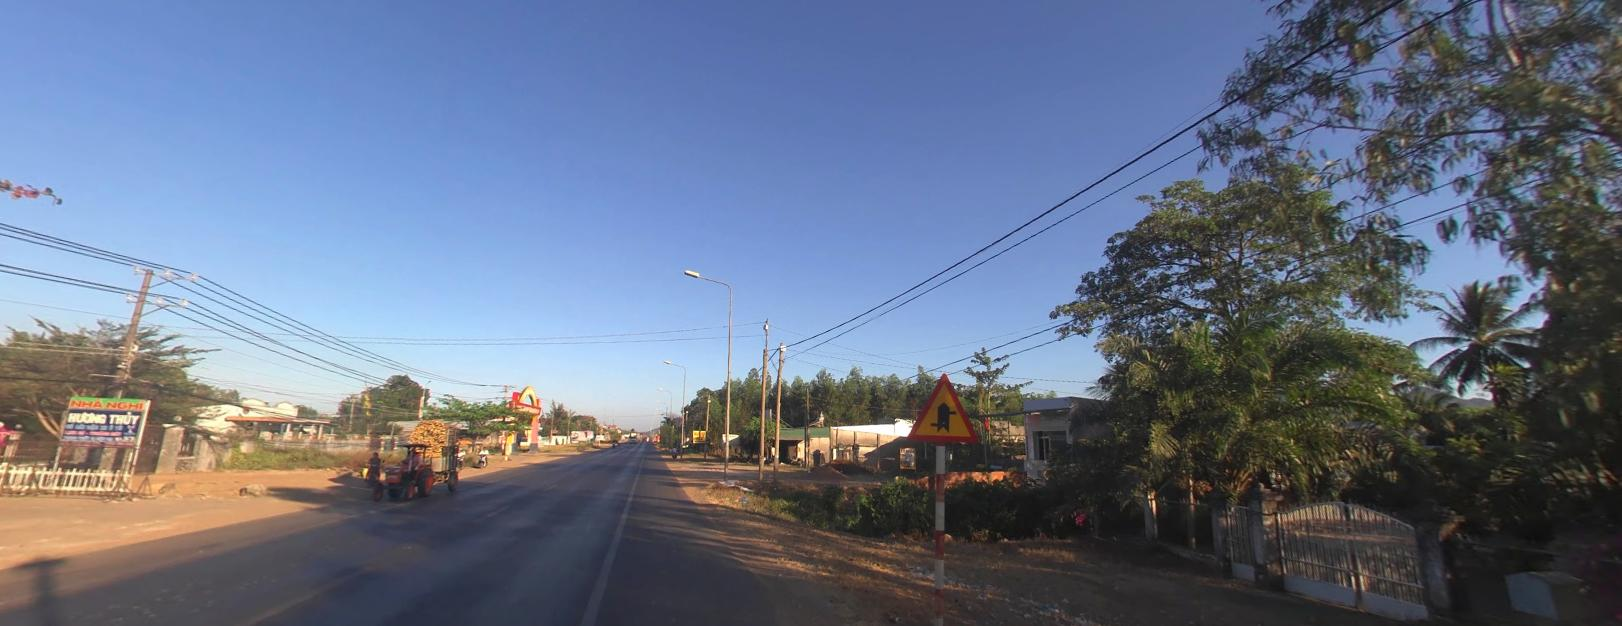Nguy hiem: (905, 366, 983, 443)
